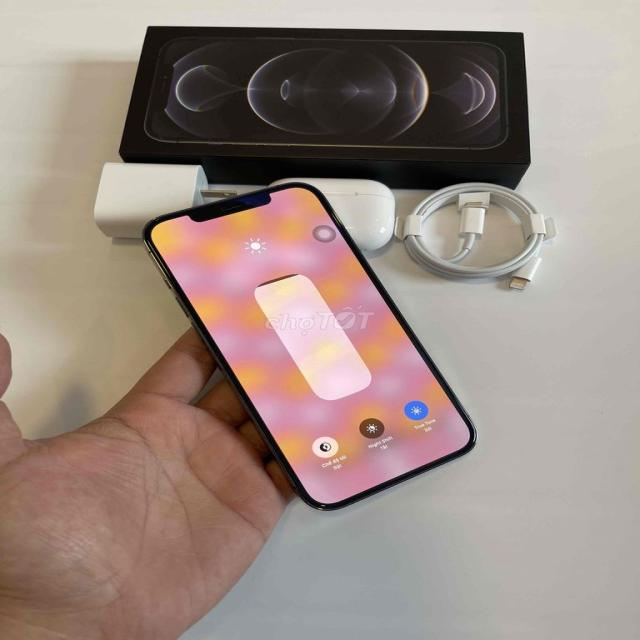gen_12_13: (140, 181, 479, 514)
